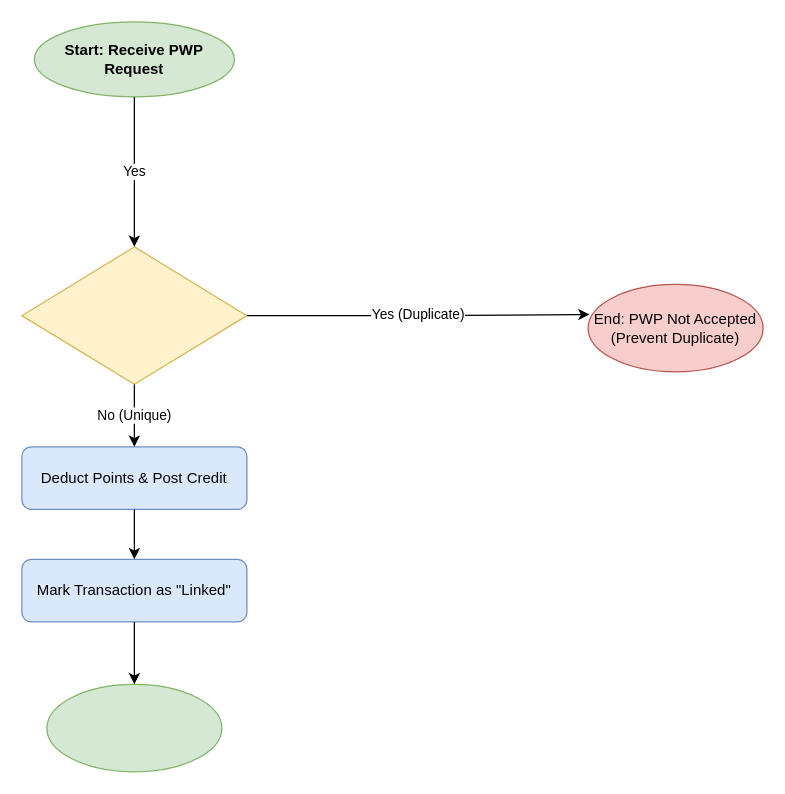
Some shapes in this 785 by 794 pixel diagram are drawn without their labels. The shapes that lost their labels are listed below. From the top down, each one's box as (x1, y1, x2, y2) in pixels, then its label:
(21, 246, 247, 384): Is transaction already linked to a previous PWP request?
(46, 683, 222, 772): End: PWP Processed Successfully
